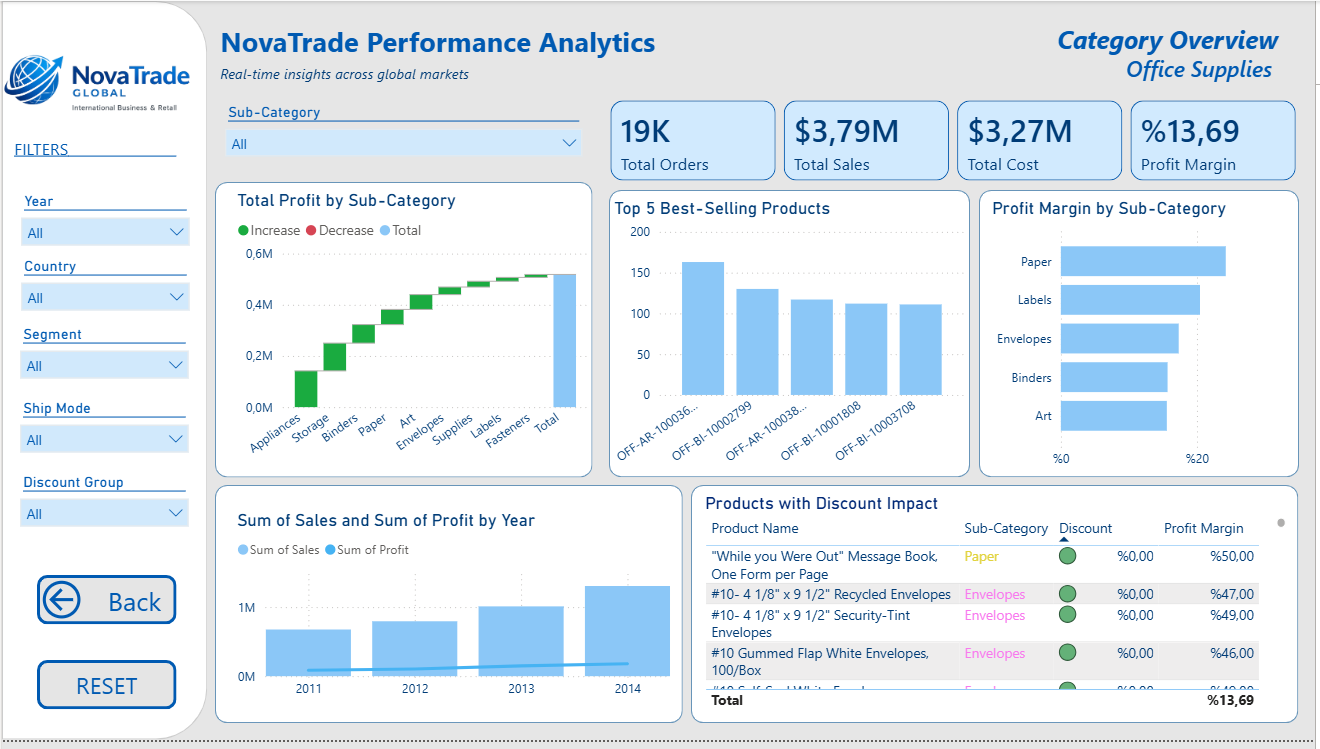

Layout of this report page (visuals, bound fields, positions):
{"tool":"powerbi","page":{"name":"Category Analysis Overview","canvas":[1280,720],"ordinal":2},"visuals":[{"type":"shape","box":[0,0,200,720],"z":0},{"type":"image","box":[0,0,192,160],"z":1000},{"type":"textbox","box":[6.9,127.7,168,56],"z":2000},{"type":"textbox","box":[208,16,456,72],"z":4000},{"type":"textbox","box":[208,56,504,40],"z":5000},{"type":"shape","box":[208,176,368,288],"z":6000},{"type":"shape","box":[208,472,456,232],"z":7000},{"type":"shape","box":[592,184,352,280],"z":8000},{"type":"cardVisual","fields":{"Data":["Sheet1.Total Orders","Sheet1.Total Sales","Sheet1.Total Cost","Sheet1.Profit Margin"]},"box":[576,80,704,112],"z":9000},{"type":"shape","box":[672,472,592,232],"z":10000},{"type":"textbox","box":[1024,16,240,48],"z":11000},{"type":"actionButton","box":[34,560,136,48],"z":12000},{"type":"shape","box":[952,184,312,280],"z":13000},{"type":"slicer","fields":{"Values":["Sheet1.Sub-Category"]},"box":[208,96,368,80],"z":14000},{"type":"barChart","fields":{"Category":["Sheet1.Sub-Category"],"Y":["Sheet1.Profit Margin"]},"box":[960,192,288,272],"z":15000},{"type":"lineClusteredColumnComboChart","fields":{"Category":["Dates.Date.Variation.Date Hierarchy.Year"],"Y":["Sum(Sheet1.Sales)"],"Y2":["Sum(Sheet1.Profit)"]},"box":[224,496,432,192],"z":16000},{"type":"tableEx","title":"Products with Discount Impact","fields":{"Values":["Sheet1.Product Name","Sheet1.Sub-Category","Sheet1.Discount","Sheet1.Profit Margin"]},"box":[680,480,576,216],"z":17000},{"type":"waterfallChart","fields":{"Category":["Sheet1.Sub-Category"],"Y":["Sheet1.Total Profit"]},"box":[224,184,352,280],"z":18000},{"type":"cardVisual","fields":{"Data":["Min(Sheet1.Category)"]},"box":[880,32,384,64],"z":19000},{"type":"actionButton","box":[34,642,136,48],"z":20000},{"type":"clusteredColumnChart","title":"Top 5 Best-Selling Products","fields":{"Y":["Sum(Sheet1.Quantity)"],"Category":["Sheet1.Product ID"]},"box":[592,192,352,272],"z":21000},{"type":"slicer","fields":{"Values":["Dates.Date.Variation.Date Hierarchy.Year"]},"box":[8.8,182,184,64],"z":22000},{"type":"slicer","fields":{"Values":["Sheet1.Segment"]},"box":[8,312,184,64],"z":23000},{"type":"slicer","fields":{"Values":["Sheet1.Ship Mode"]},"box":[8,384,184,64],"z":24000},{"type":"slicer","fields":{"Values":["Sheet1.Country"]},"box":[8.8,246,184,64],"z":25000},{"type":"slicer","fields":{"Values":["Sheet1.Discount Group"]},"box":[8,456,184,64],"z":26000}]}

Visuals, with their boxes in screenshot pixels (x1, y1, x2, y2), scaled from the page's 1280x720 canvas onto the 1320x749 screenshot:
shape: [left=0, top=0, right=206, bottom=748]
image: [left=0, top=0, right=198, bottom=166]
textbox: [left=7, top=133, right=180, bottom=191]
textbox: [left=214, top=17, right=685, bottom=92]
textbox: [left=214, top=58, right=734, bottom=100]
shape: [left=214, top=183, right=594, bottom=483]
shape: [left=214, top=491, right=685, bottom=732]
shape: [left=610, top=191, right=974, bottom=483]
cardVisual - Sheet1.Total Orders x Sheet1.Total Sales: [left=594, top=83, right=1319, bottom=200]
shape: [left=693, top=491, right=1304, bottom=732]
textbox: [left=1056, top=17, right=1304, bottom=67]
actionButton: [left=35, top=583, right=175, bottom=632]
shape: [left=982, top=191, right=1304, bottom=483]
slicer - Sheet1.Sub-Category: [left=214, top=100, right=594, bottom=183]
barChart - Sheet1.Sub-Category x Sheet1.Profit Margin: [left=990, top=200, right=1287, bottom=483]
lineClusteredColumnComboChart - Dates.Date.Variation.Date Hierarchy.Year x Sum(Sheet1.Sales): [left=231, top=516, right=676, bottom=716]
"Products with Discount Impact" tableEx: [left=701, top=499, right=1295, bottom=724]
waterfallChart - Sheet1.Sub-Category x Sheet1.Total Profit: [left=231, top=191, right=594, bottom=483]
cardVisual - Min(Sheet1.Category): [left=908, top=33, right=1304, bottom=100]
actionButton: [left=35, top=668, right=175, bottom=718]
"Top 5 Best-Selling Products" clusteredColumnChart: [left=610, top=200, right=974, bottom=483]
slicer - Dates.Date.Variation.Date Hierarchy.Year: [left=9, top=189, right=199, bottom=256]
slicer - Sheet1.Segment: [left=8, top=325, right=198, bottom=391]
slicer - Sheet1.Ship Mode: [left=8, top=399, right=198, bottom=466]
slicer - Sheet1.Country: [left=9, top=256, right=199, bottom=322]
slicer - Sheet1.Discount Group: [left=8, top=474, right=198, bottom=541]
